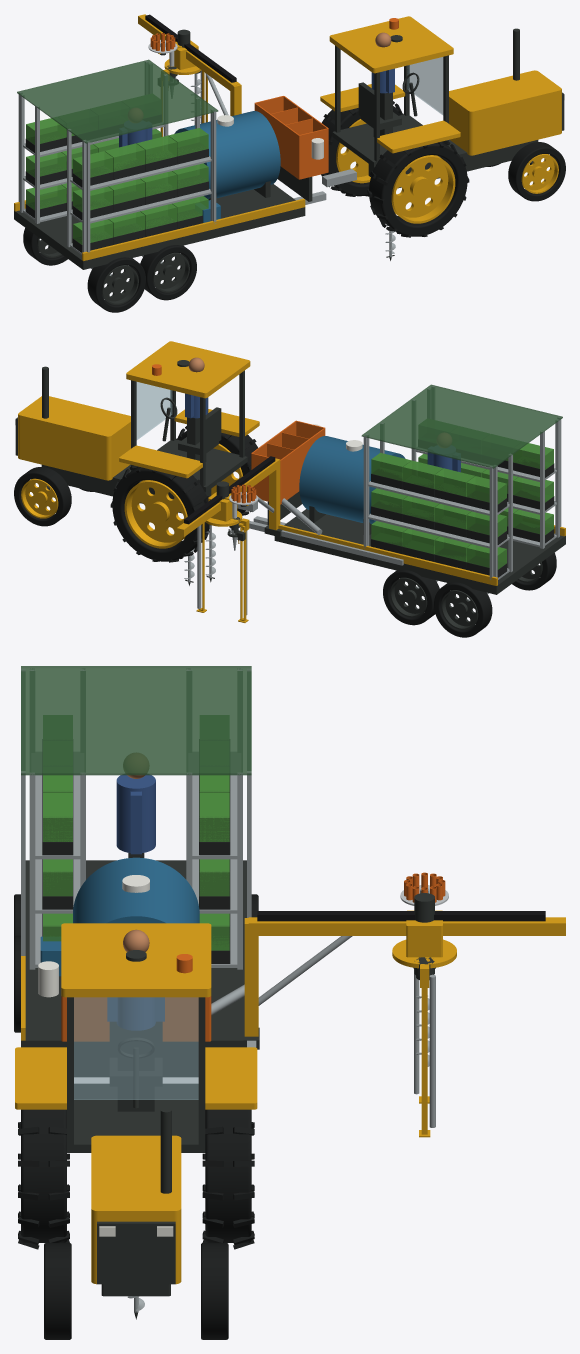
The model's file is katar.glb.
The picture shows the model from 3 angles, top to bottom: view 1: azimuth 30°, elevation 25°; view 2: azimuth 150°, elevation 25°; view 3: azimuth 270°, elevation 25°; orthographic projection. The views are drawn at different scales.
Visible parts, largest first — view 1: tyre_0 (×6), shade_net_8, rim_1 (×5), hood_1, racks_82, tank_4, deck_1, roof_7, amendment_hopper_84, fenders_5, side_rails_2, rops_8 (+30 smaller); view 2: tyre_0 (×6), shade_net_8, hood_1, rim_1 (×4), racks_82, tank_4, deck_1, roof_7, amendment_hopper_84, fenders_5, rops_8, side_rails_2 (+32 smaller); view 3: shade_net_8, tyre_0 (×4), windscreen_9, racks_82, roof_7, hood_1, fenders_5, tank_4, deck_1, cab_floor_6, grille_2, beam_1 (+22 smaller).
Part boxes in pixels (x1,y1,x2,y2): tyre_0 (×6): (23, 101, 565, 312); shade_net_8: (17, 59, 218, 143); rim_1 (×5): (101, 119, 558, 304); hood_1: (449, 70, 561, 155); racks_82: (20, 63, 214, 254); tank_4: (174, 111, 280, 199); deck_1: (14, 184, 305, 269); roof_7: (329, 16, 453, 73); amendment_hopper_84: (254, 96, 328, 179); fenders_5: (320, 84, 460, 153); side_rails_2: (14, 198, 305, 261); rops_8: (335, 45, 448, 161); tyre_0 (×6): (14, 426, 556, 637); shade_net_8: (361, 384, 562, 468); hood_1: (18, 396, 130, 480); rim_1 (×4): (21, 478, 478, 629); racks_82: (365, 388, 559, 579); tank_4: (299, 436, 405, 524); deck_1: (274, 509, 565, 594); roof_7: (126, 341, 250, 398); amendment_hopper_84: (251, 420, 325, 504); fenders_5: (119, 409, 259, 478); rops_8: (131, 370, 244, 486); side_rails_2: (278, 524, 565, 585); shade_net_8: (21, 666, 251, 775); tyre_0 (×4): (18, 1109, 254, 1339); windscreen_9: (74, 997, 198, 1099); racks_82: (29, 668, 242, 969); roof_7: (61, 923, 211, 997); hood_1: (91, 1135, 181, 1284); fenders_5: (15, 1047, 257, 1109); tank_4: (73, 857, 199, 923); deck_1: (21, 860, 246, 1047); cab_floor_6: (67, 1084, 205, 1152); grille_2: (97, 1221, 175, 1284); beam_1: (248, 917, 565, 935).
Bounding box in the file's own units: 8420 × 3660 × 4785.
